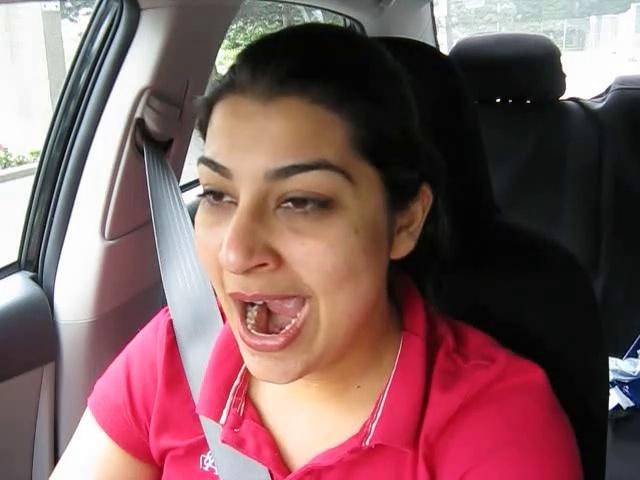close_eyeL: (184, 171, 247, 220)
close_eyeR: (256, 181, 352, 231)
yawn: (210, 274, 333, 362)
